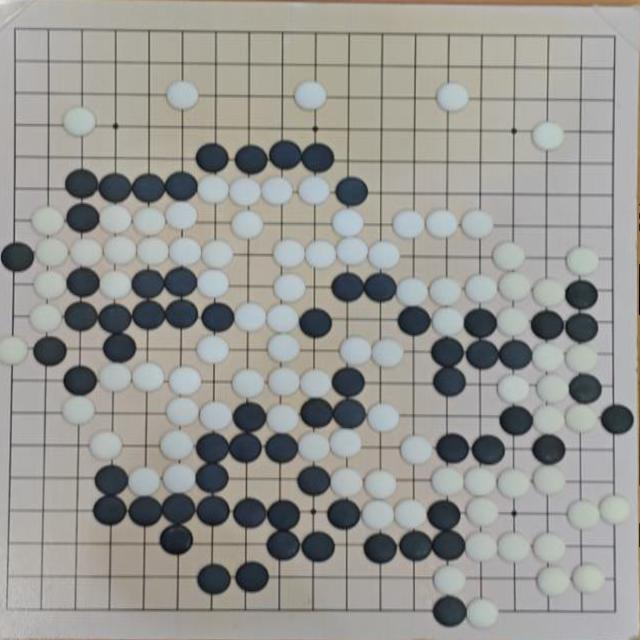blackstone: (162, 493, 198, 526), (94, 464, 129, 497), (66, 266, 102, 298), (297, 465, 332, 497), (196, 432, 231, 464), (427, 500, 462, 532), (196, 462, 231, 494), (65, 168, 100, 200), (432, 595, 467, 627), (102, 332, 138, 363), (228, 432, 264, 463), (232, 402, 268, 433), (128, 495, 164, 526), (132, 268, 166, 300), (66, 202, 100, 234), (499, 405, 533, 437), (532, 434, 566, 466), (93, 494, 127, 526), (236, 561, 270, 593), (363, 272, 398, 303), (131, 299, 166, 330), (265, 432, 300, 463), (332, 398, 367, 429), (64, 301, 99, 332), (63, 365, 98, 396), (431, 530, 466, 561), (266, 529, 301, 560), (197, 564, 232, 595), (99, 172, 132, 204), (201, 302, 235, 333), (165, 298, 199, 329), (164, 266, 198, 297), (531, 309, 565, 340), (327, 499, 361, 530), (235, 144, 269, 175), (267, 500, 301, 531), (196, 495, 230, 526), (564, 313, 598, 344), (234, 498, 268, 529), (196, 142, 230, 173), (399, 530, 433, 561), (364, 533, 398, 564), (600, 404, 634, 435), (397, 306, 432, 336), (98, 303, 133, 333), (33, 336, 68, 366), (159, 525, 194, 555), (299, 307, 332, 338), (332, 367, 365, 398), (499, 340, 532, 371), (302, 142, 335, 173), (331, 272, 365, 302), (436, 434, 470, 464), (431, 337, 465, 367), (300, 398, 334, 428), (302, 532, 336, 562), (464, 308, 498, 338), (165, 171, 199, 201), (132, 173, 166, 203), (335, 176, 369, 206), (466, 340, 500, 370), (472, 435, 506, 465), (568, 374, 602, 404), (433, 366, 466, 396), (565, 280, 598, 310), (1, 242, 34, 272), (270, 140, 302, 170)
whitestone: (162, 463, 197, 495), (160, 430, 194, 462), (466, 598, 500, 630), (61, 396, 96, 427), (362, 470, 397, 501), (360, 500, 394, 531), (232, 369, 266, 400), (197, 269, 231, 300), (266, 404, 300, 435), (168, 366, 202, 397), (199, 401, 233, 432), (267, 334, 301, 365), (70, 237, 104, 268), (463, 467, 497, 498), (35, 237, 69, 268), (400, 435, 434, 466), (532, 465, 566, 496), (532, 533, 566, 564), (436, 81, 470, 112), (99, 362, 132, 393), (128, 467, 161, 498), (394, 499, 427, 530), (461, 209, 494, 240), (433, 565, 466, 596), (598, 494, 631, 525), (294, 80, 327, 111), (565, 344, 599, 374), (431, 307, 465, 337), (464, 274, 498, 304), (496, 308, 530, 338), (132, 362, 166, 392), (531, 343, 565, 373), (496, 375, 530, 405), (33, 270, 67, 300), (532, 406, 566, 436), (532, 278, 566, 308), (196, 335, 230, 365), (497, 469, 531, 499), (29, 304, 63, 334), (465, 497, 499, 527), (31, 206, 65, 236), (537, 566, 571, 596), (565, 404, 599, 434), (88, 432, 122, 462), (497, 533, 531, 563), (567, 499, 601, 529), (331, 467, 363, 498), (100, 270, 132, 301), (330, 428, 362, 459), (432, 466, 464, 497), (166, 397, 199, 427), (165, 200, 198, 230), (168, 236, 201, 266), (104, 236, 137, 266), (396, 277, 429, 307), (339, 336, 372, 366), (235, 302, 268, 332), (268, 366, 301, 396), (429, 277, 462, 307), (498, 272, 531, 302), (536, 374, 569, 404), (100, 204, 133, 234), (298, 175, 331, 205), (231, 210, 264, 240), (493, 241, 526, 271), (465, 532, 498, 562), (566, 246, 599, 276), (572, 564, 605, 594), (63, 107, 96, 137), (532, 120, 565, 150), (166, 80, 199, 110), (266, 303, 300, 332), (132, 206, 166, 235), (336, 236, 368, 266), (198, 174, 230, 204), (300, 368, 332, 398), (298, 432, 330, 462), (305, 239, 337, 269), (368, 403, 400, 433), (332, 208, 364, 238), (229, 176, 261, 206), (262, 176, 294, 206), (425, 209, 458, 238), (136, 237, 169, 266), (202, 240, 235, 269), (372, 339, 404, 368), (274, 273, 306, 302), (368, 241, 400, 270), (392, 210, 424, 239), (273, 240, 306, 268), (0, 336, 28, 365)
